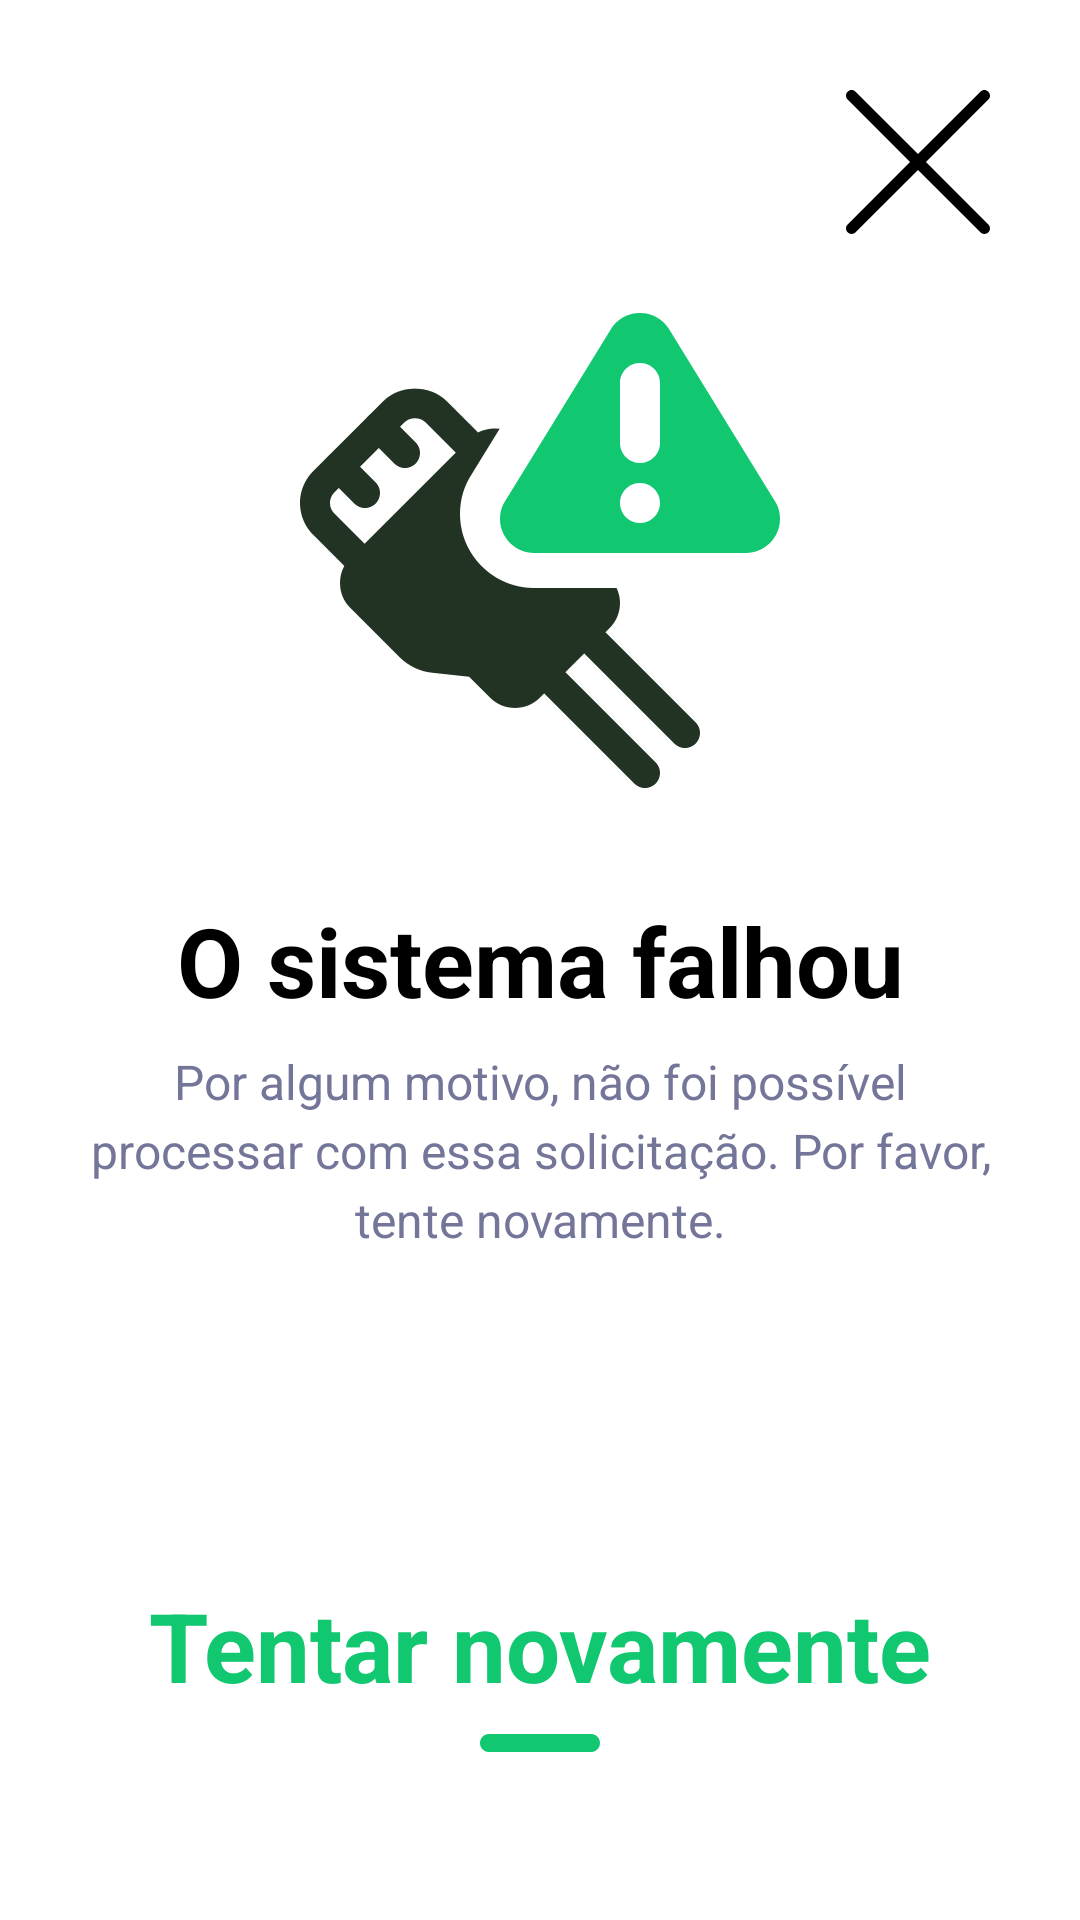

Point at icon controls on the screen. Image size 1080*1920, points as (x,y).
close: (918,162)
